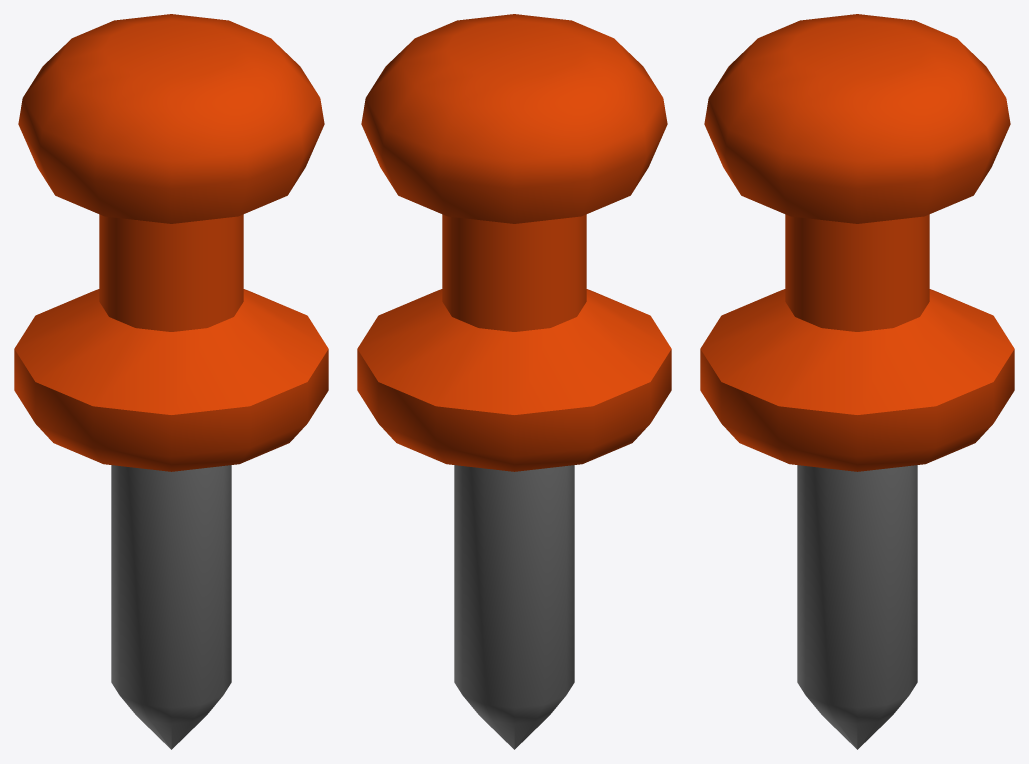
Rendered from Pin_1.fbx.
The picture shows the model from 3 angles, left to right: view 1: azimuth 30°, elevation 25°; view 2: azimuth 150°, elevation 25°; view 3: azimuth 270°, elevation 25°; orthographic projection.
Parts seen in each view (by area): view 1: Pin_1; view 2: Pin_1; view 3: Pin_1.
Boxes of the visible parts, x1,y1,x2,y2 form: Pin_1: (14,14,328,749); Pin_1: (357,14,671,749); Pin_1: (700,14,1014,749).
Size of the model in its own units: 0.067 by 0.1647 by 0.067.
